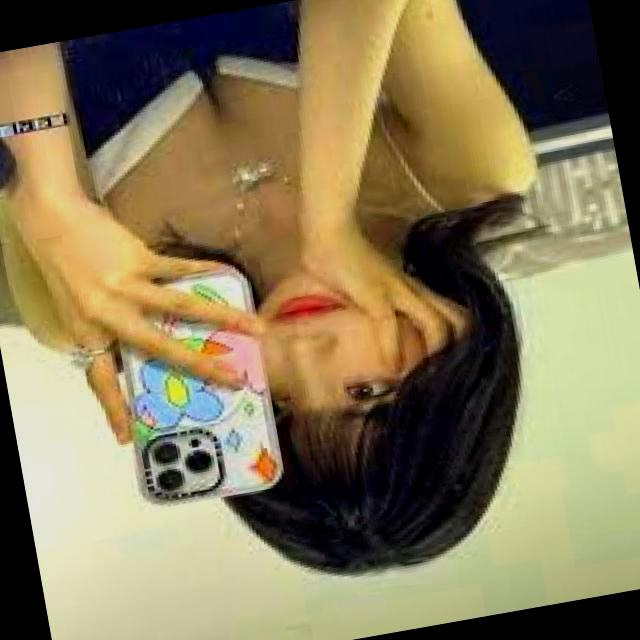phone: (103, 250, 289, 516)
